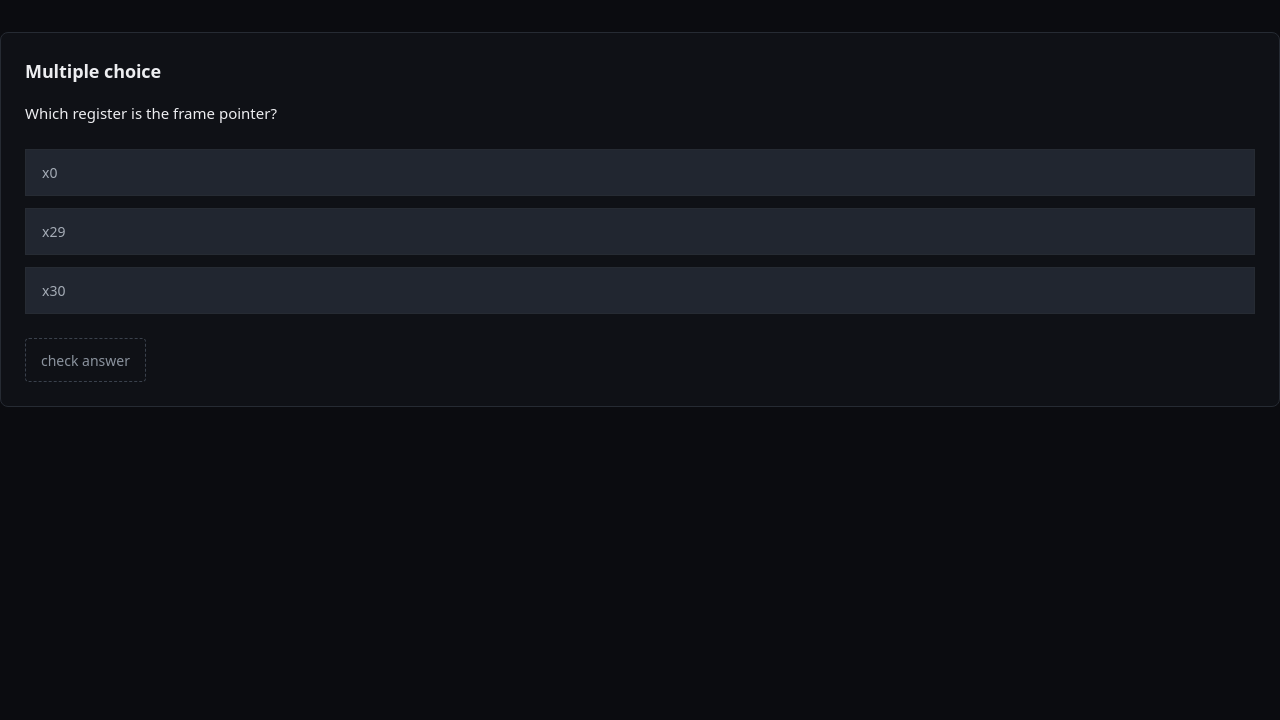
Test: QuizBlock › shows only the hint on a wrong answer and resets through try again
Click the button "x0" at (50, 173), box [25,149,1255,196]
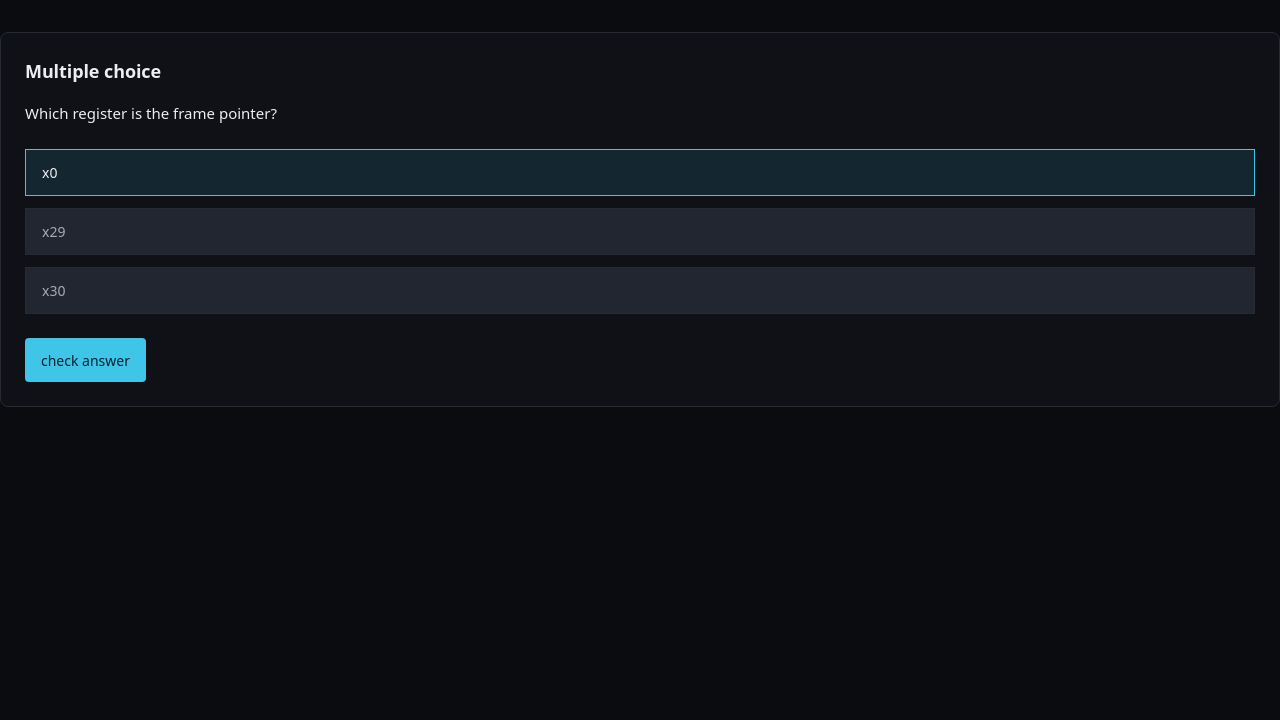
Click the button "check answer" at (86, 360), box [25,338,146,382]
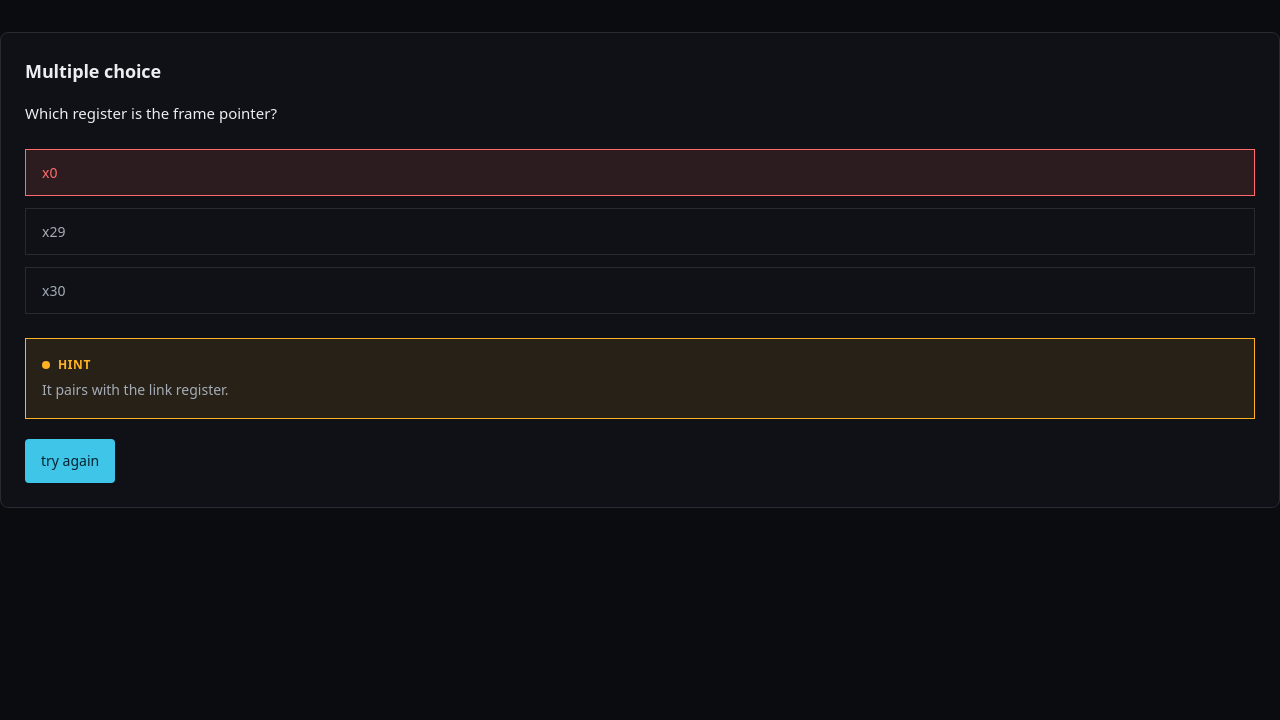
Result: the text "It pairs with the link register." is shown at [42,380,228,399]
Click the button "try again" at (70, 461), box [25,439,115,483]
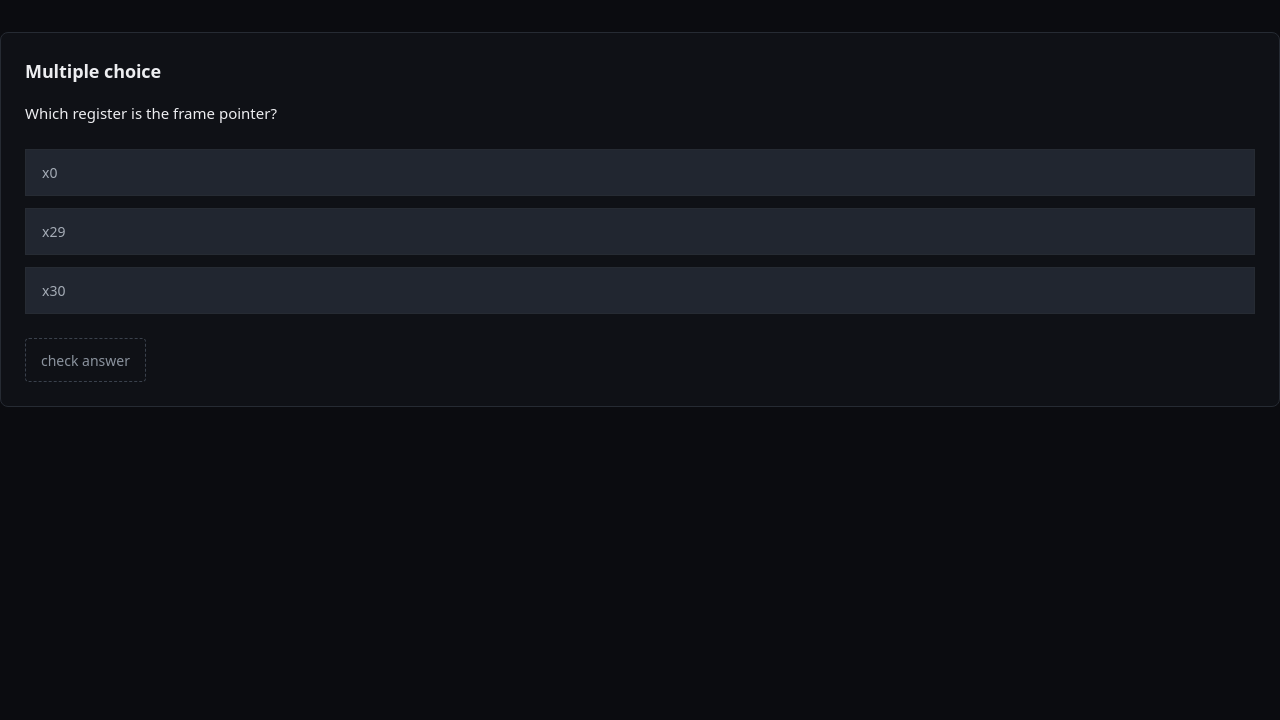
Result: the button "check answer" is shown at [25,338,146,382]
